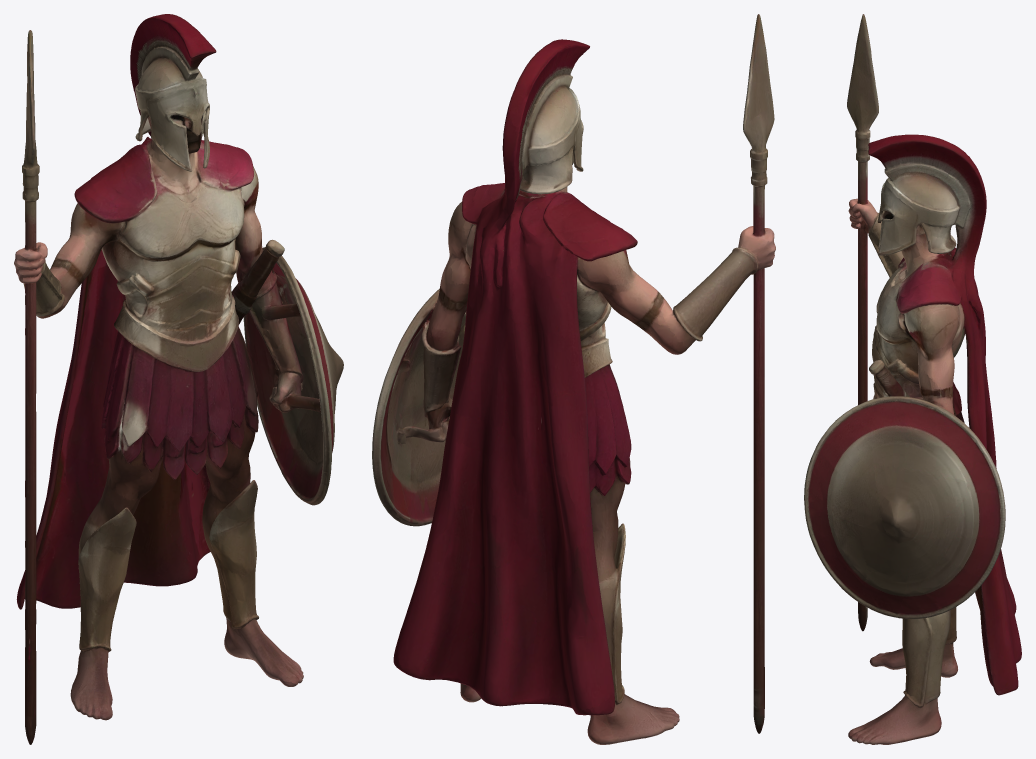
The model's file is hoplite__athenian-hoplite.glb.
The picture shows the model from 3 angles, left to right: view 1: azimuth 30°, elevation 25°; view 2: azimuth 150°, elevation 25°; view 3: azimuth 270°, elevation 25°; orthographic projection. The views are drawn at different scales.
Bounding box in the file's own units: 0.9661 × 1.9 × 0.6072.
1 material, 1 textured.
